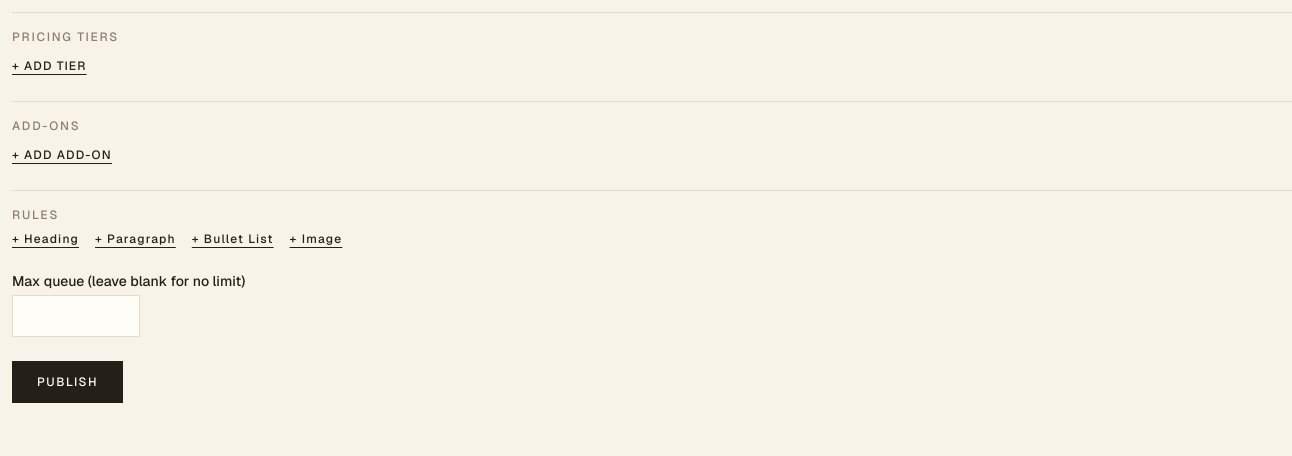
Test: CommissionRulesEditor › surfaces a validation error from the server action
Click the button with test id "commission-rules-editor-publish-button".
click(68, 382)  # box [12, 361, 123, 403]
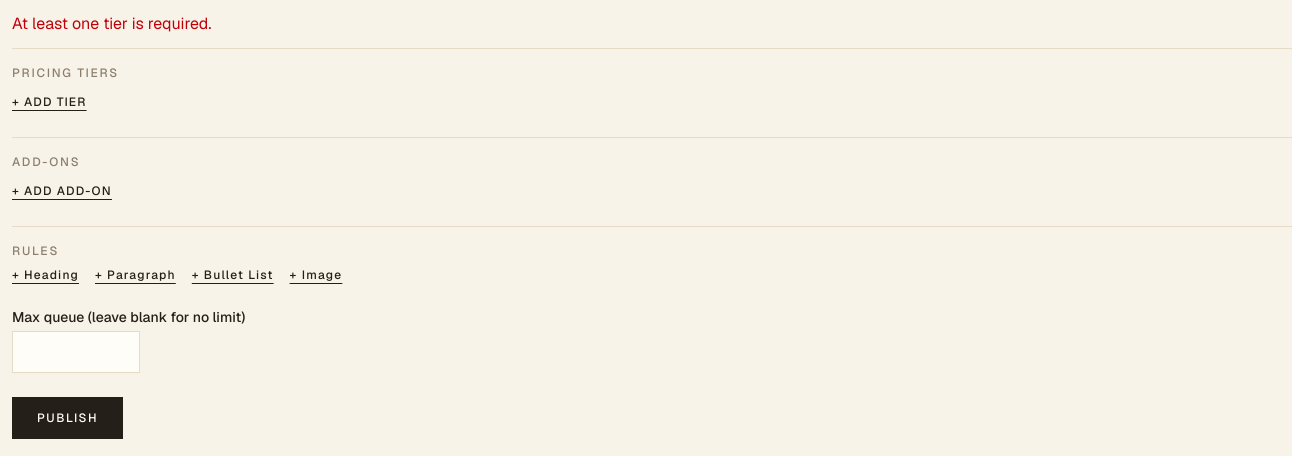
expect the text "At least one tier is required." is shown: met, box [12, 13, 212, 34]
